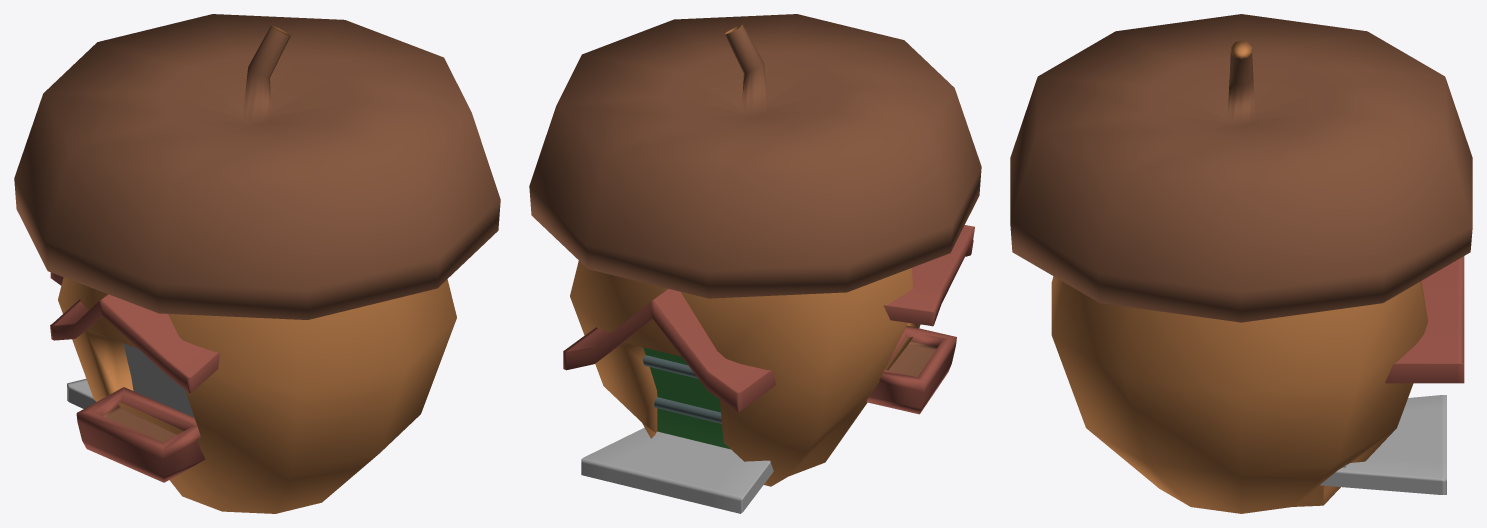
The model's file is Hus_2 export.fbx.
3 renders of one model, left to right at view 1: azimuth 30°, elevation 25°; view 2: azimuth 150°, elevation 25°; view 3: azimuth 270°, elevation 25°, orthographic. The views are drawn at different scales.
Parts seen in each view (by area): view 1: polySurface4, polySurface3, polySurface1, pPlane1, polySurface5; view 2: polySurface4, polySurface5, polySurface2, Doer1, polySurface3, polySurface1; view 3: polySurface4, polySurface5, polySurface2.
Boxes of the visible parts, x1=… form: polySurface4: x1=14, y1=14, x2=500, y2=513; polySurface3: x1=76, y1=387, x2=205, y2=482; polySurface1: x1=50, y1=294, x2=219, y2=393; pPlane1: x1=123, y1=343, x2=194, y2=417; polySurface5: x1=67, y1=379, x2=95, y2=408; polySurface4: x1=529, y1=14, x2=981, y2=486; polySurface5: x1=581, y1=427, x2=773, y2=513; polySurface2: x1=563, y1=289, x2=776, y2=411; Doer1: x1=642, y1=347, x2=730, y2=449; polySurface3: x1=866, y1=325, x2=956, y2=414; polySurface1: x1=883, y1=225, x2=974, y2=326; polySurface4: x1=1010, y1=14, x2=1472, y2=513; polySurface5: x1=1320, y1=395, x2=1446, y2=494; polySurface2: x1=1385, y1=256, x2=1464, y2=383.
Size of the model in its own units: 12.92 by 13.02 by 12.29.
